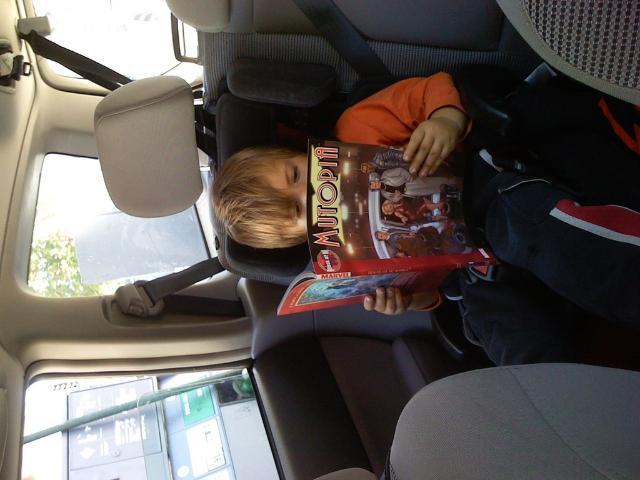Seatbelt: (21, 25, 218, 159), (290, 2, 396, 80), (134, 257, 248, 325)
